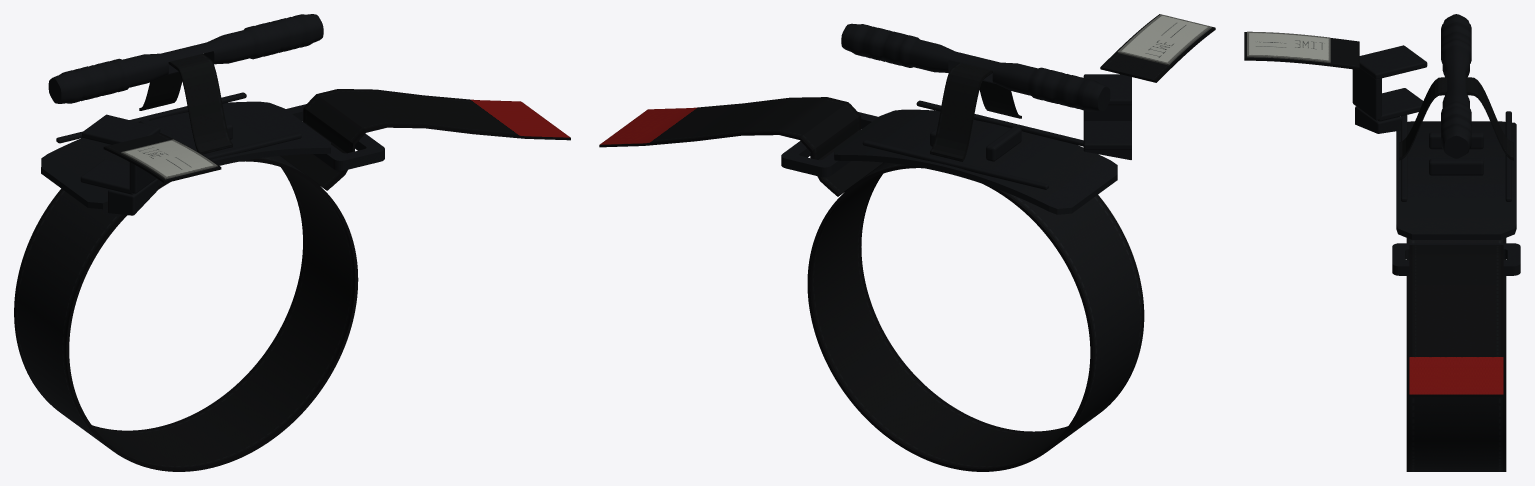
Rendered from Tourniquet_Model.fbx.
3 views of the same model, side by side, from view 1: azimuth 30°, elevation 25°; view 2: azimuth 150°, elevation 25°; view 3: azimuth 270°, elevation 25° (orthographic). The views are drawn at different scales.
Parts seen in each view (by area): view 1: Visual (×7); view 2: Visual (×7); view 3: Visual (×7).
Part boxes in pixels (x1,y1,x2,y2): Visual (×7): [14, 14, 570, 471]; Visual (×7): [599, 14, 1215, 471]; Visual (×7): [1244, 14, 1520, 471].
Bounding box in the file's own units: 0.2122 × 0.1625 × 0.1055.
